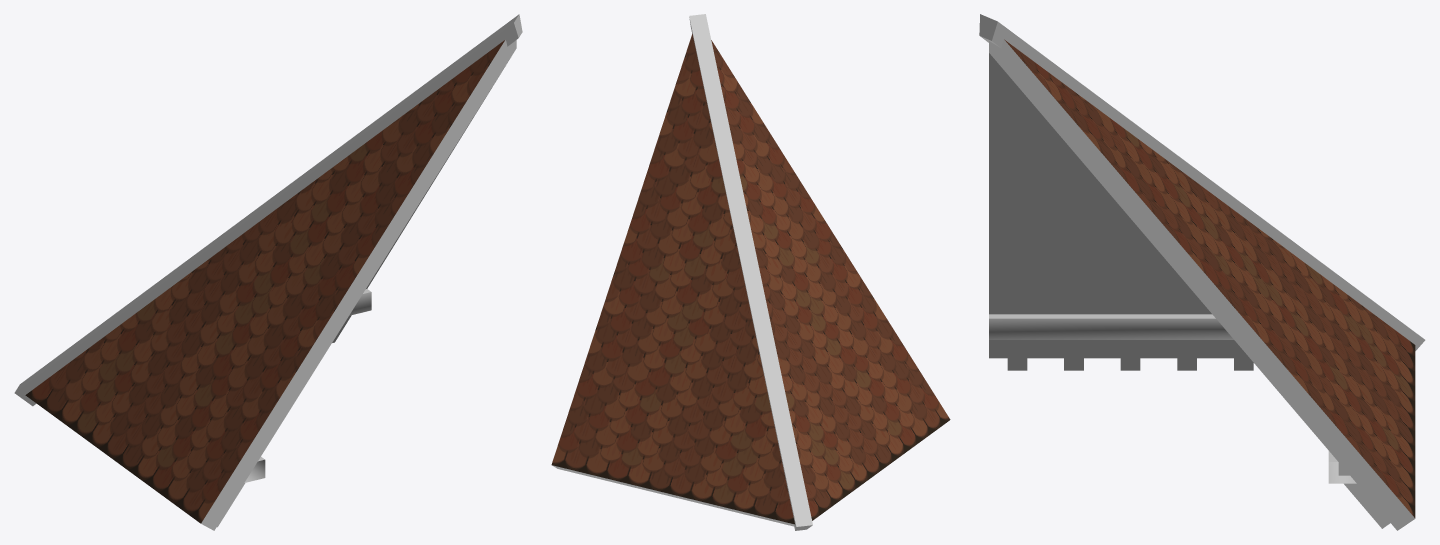
File: Roof_Angle_Normal_03_B.FBX
The picture shows the model from 3 angles, left to right: view 1: azimuth 30°, elevation 25°; view 2: azimuth 150°, elevation 25°; view 3: azimuth 270°, elevation 25°; orthographic projection. The views are drawn at different scales.
Parts seen in each view (by area): view 1: Roof_Angle_Normal_03_B; view 2: Roof_Angle_Normal_03_B; view 3: Roof_Angle_Normal_03_B.
Boxes of the visible parts, <box> form: Roof_Angle_Normal_03_B: <box>14,14,522,530</box>; Roof_Angle_Normal_03_B: <box>551,14,950,530</box>; Roof_Angle_Normal_03_B: <box>979,14,1425,530</box>.
Size of the model in its own units: 7.88 by 10.12 by 7.88.
